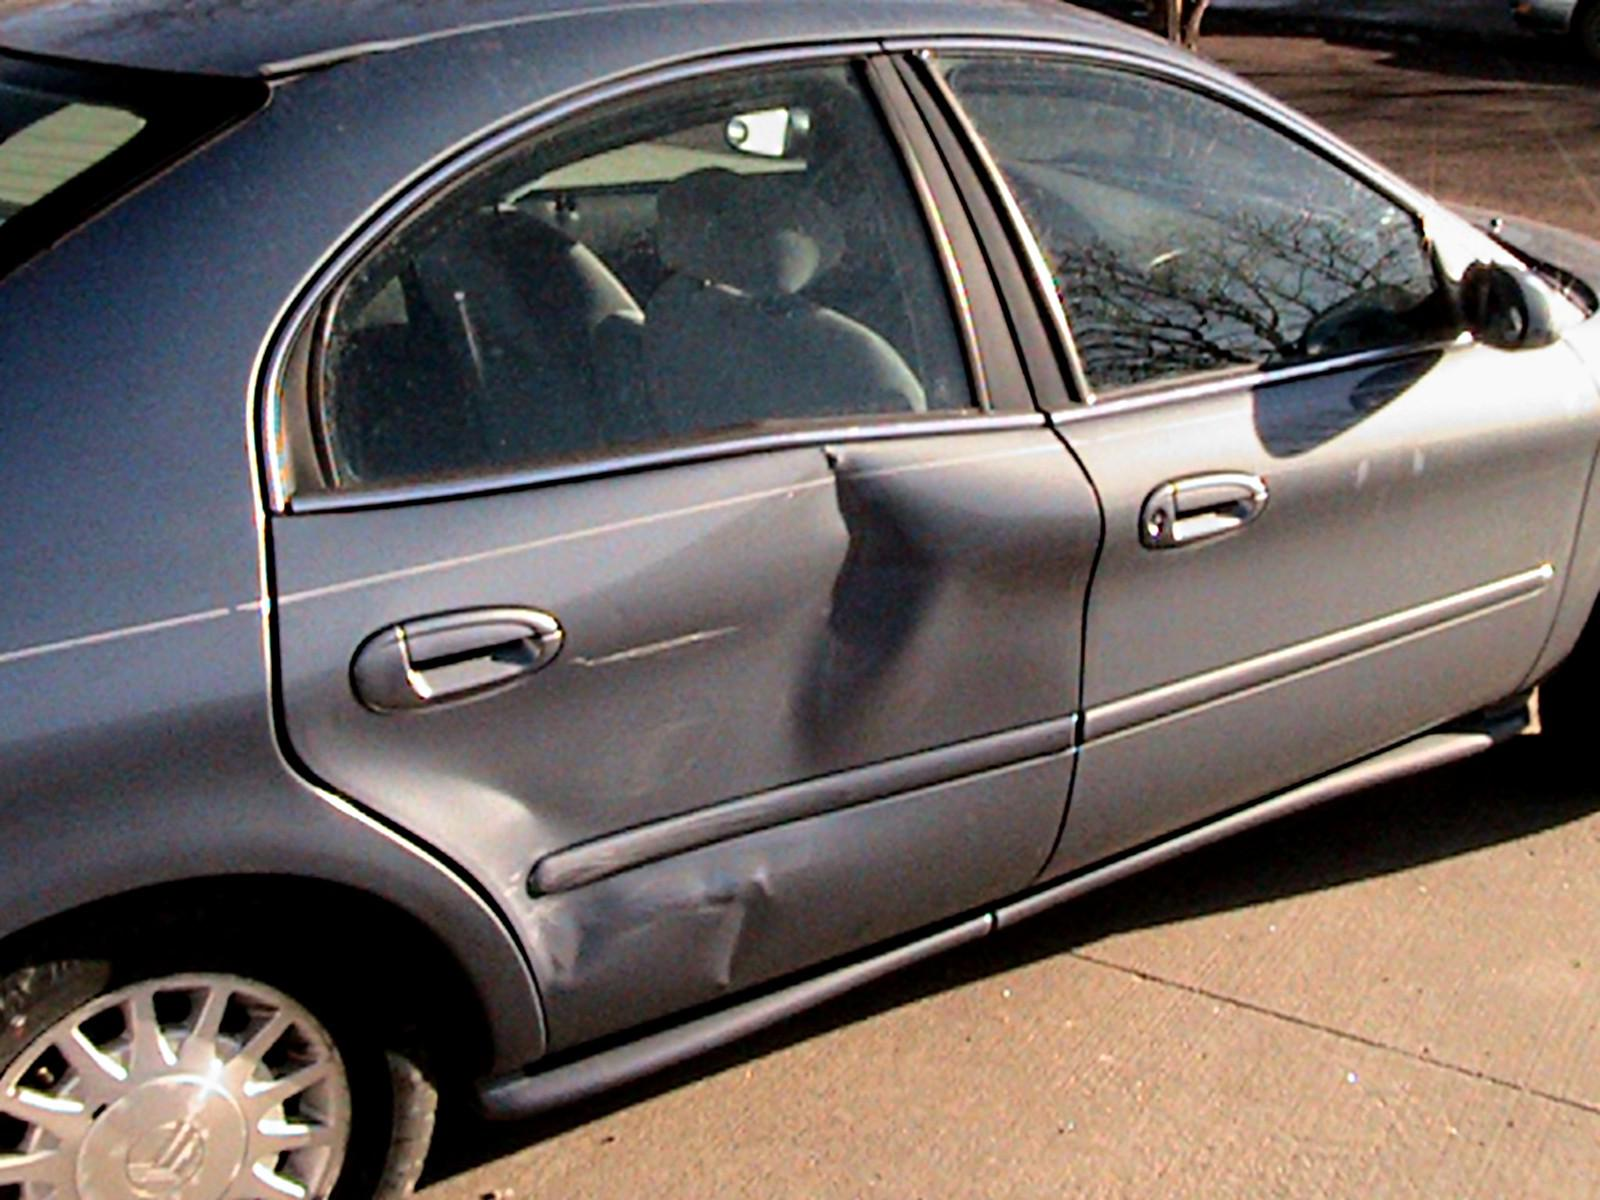doorouter-dent: (275, 407, 1027, 1010)
